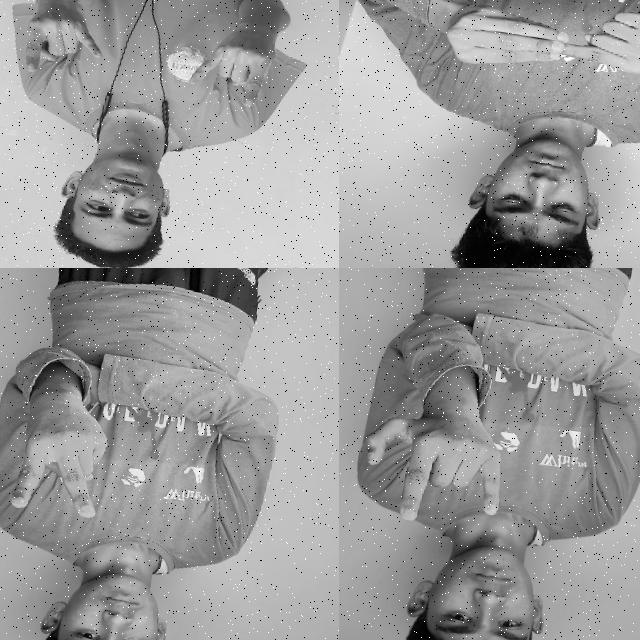Corna: (345, 384, 525, 548), (180, 12, 290, 120), (11, 0, 118, 86)
Five Fathers: (438, 0, 640, 109)
Reversed Victory: (3, 374, 117, 528)
